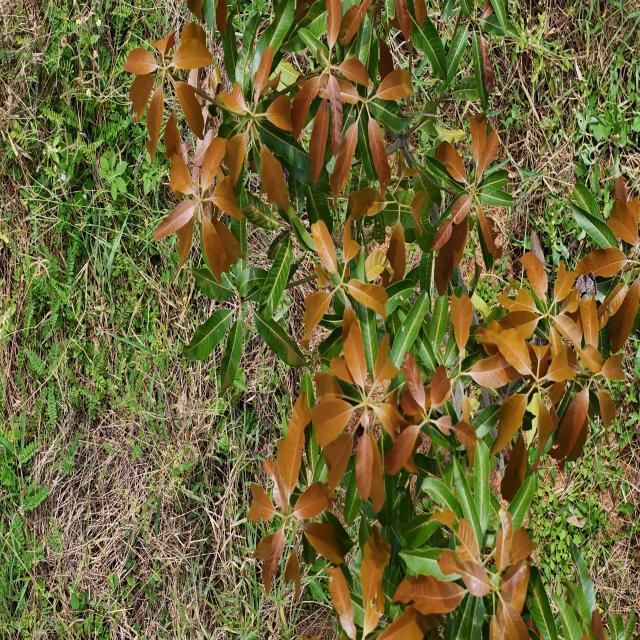mangoTree: (123, 0, 640, 640)
